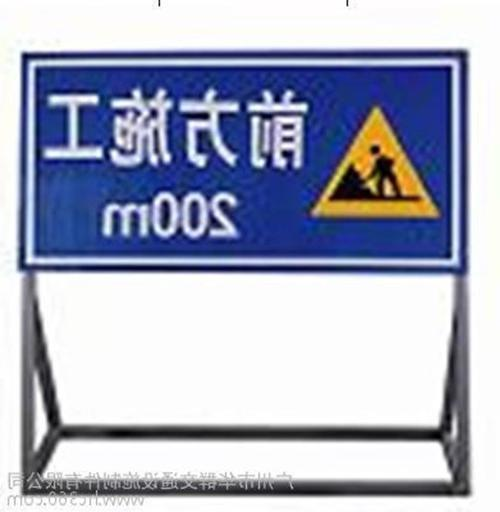sign: (17, 49, 469, 275)
